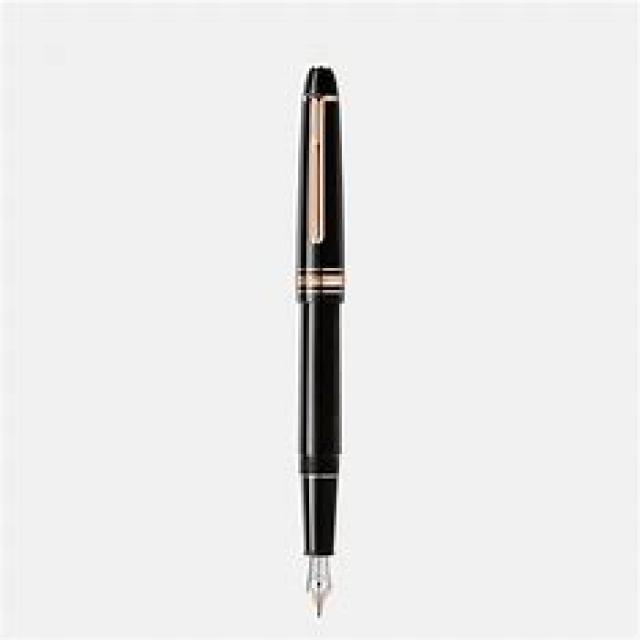pen: (299, 59, 342, 622)
